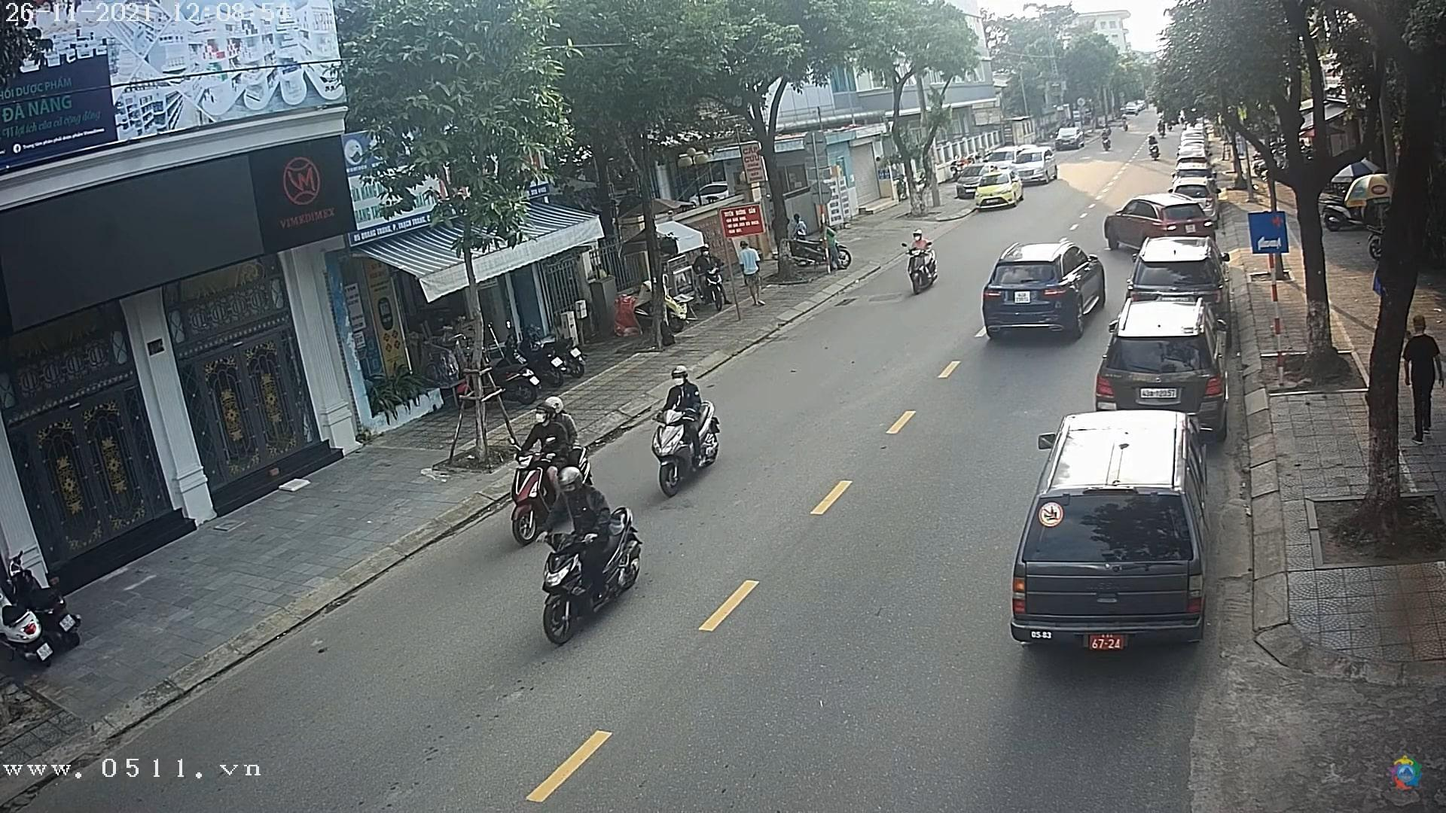car: (1014, 412, 1209, 649), (1096, 299, 1225, 420), (981, 240, 1110, 341), (1104, 192, 1216, 258), (1128, 237, 1225, 298), (1169, 163, 1217, 193), (1056, 125, 1088, 150)
motorbike: (539, 503, 644, 648), (509, 446, 599, 545), (652, 397, 723, 497), (905, 245, 939, 296)
